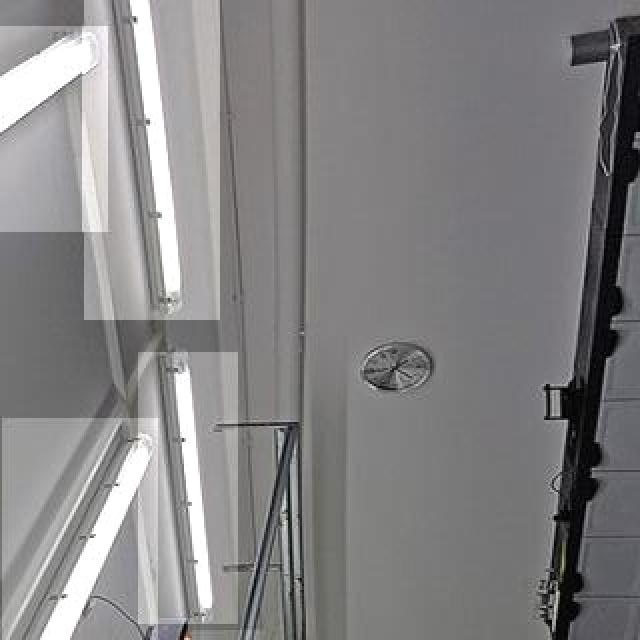fluorescent tube: (4, 414, 164, 640), (102, 0, 205, 313), (135, 340, 237, 640), (0, 28, 102, 240), (180, 622, 260, 640)
